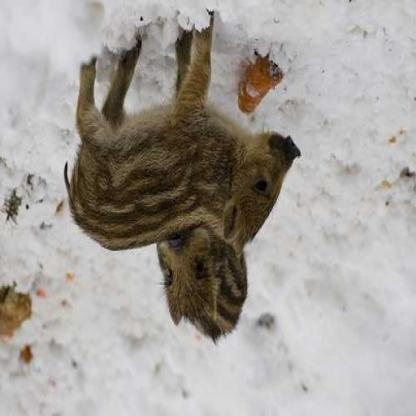boar: (3, 46, 301, 257), (142, 216, 258, 362)
